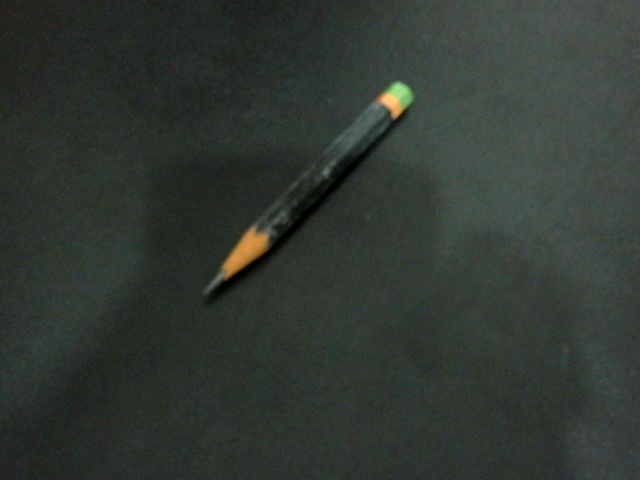pencil: (171, 59, 442, 323)
